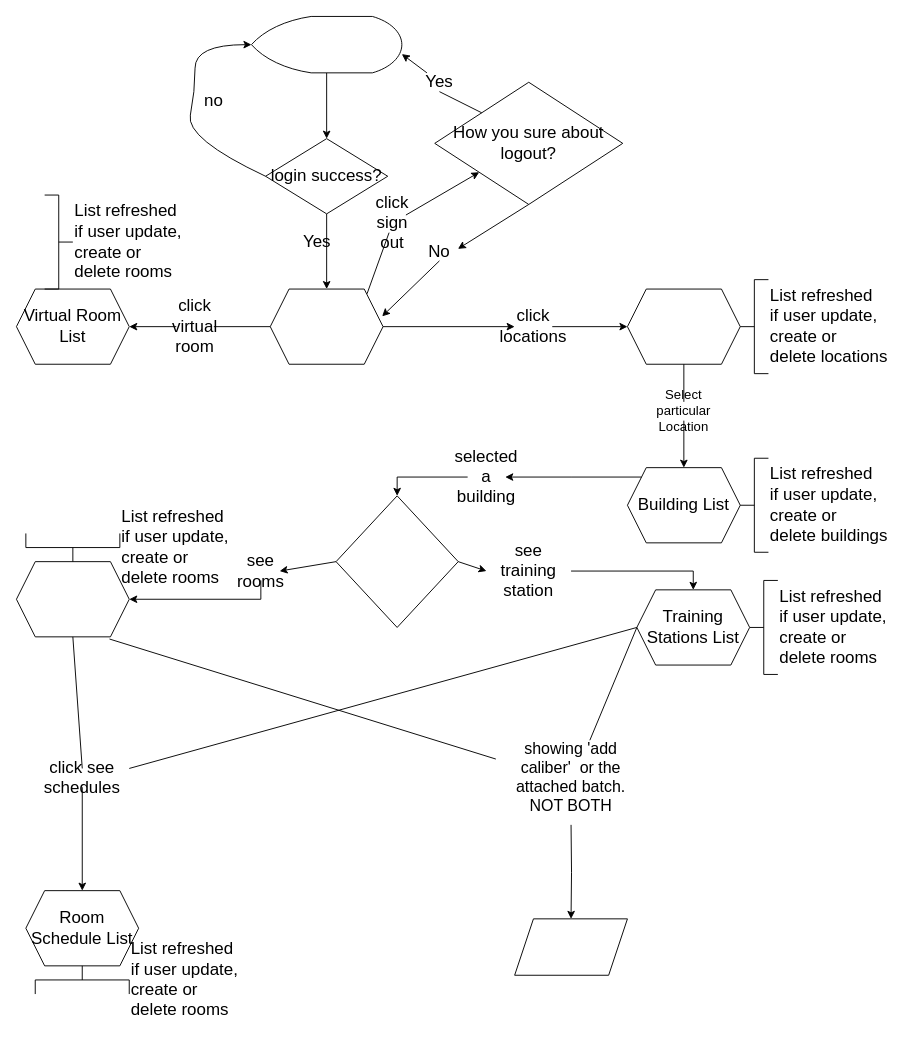
Image size: 904x1037. Some labels were removed from this diagram. The shapes that lost their labels are listed below. From the top down, each one's centre as x and y in pixels, then its label:
At point (326, 44): "Login page".
At point (326, 326): "Main Page".
At point (683, 326): "Location List".
At point (396, 561): "see rooms? see Training stations?".
At point (72, 599): "Room List with caliber batch".
At point (570, 946): "user can add caliber".
